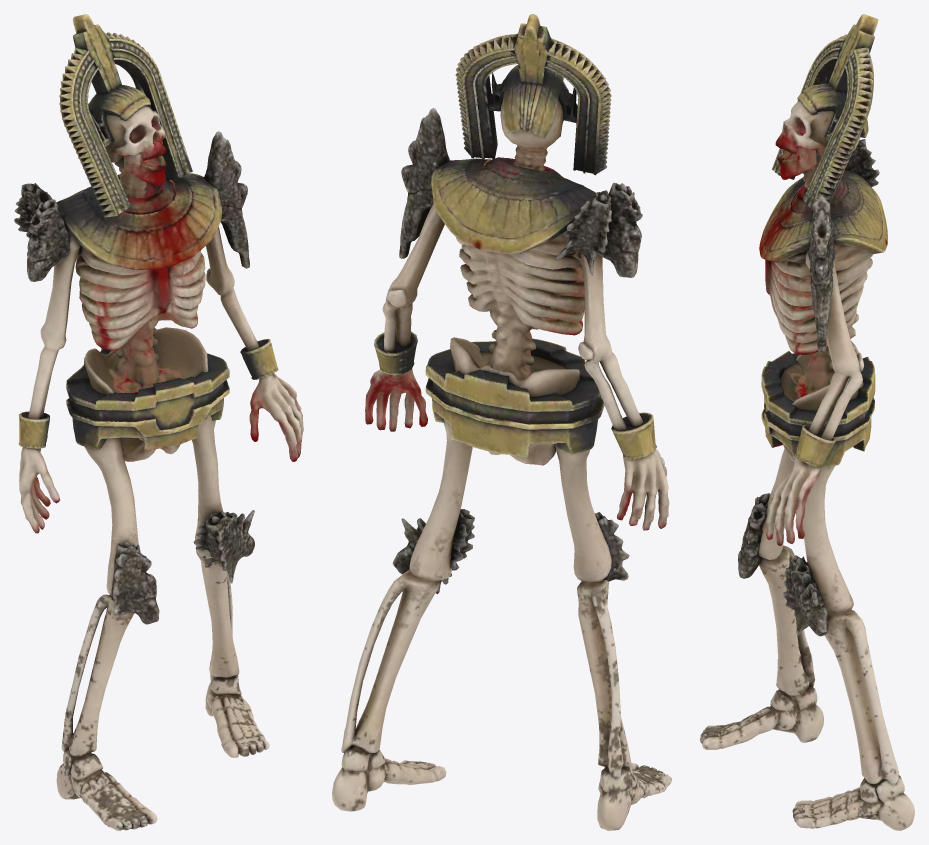
File: MZ4250 - Tzitzimitl.glb
3 views of the same model, side by side, from view 1: azimuth 30°, elevation 25°; view 2: azimuth 150°, elevation 25°; view 3: azimuth 270°, elevation 25° (orthographic). The views are drawn at different scales.
Parts seen in each view (by area): view 1: Body.002; view 2: Body.002; view 3: Body.002.
Part boxes in pixels (x1,y1,x2,y2): Body.002: [14, 14, 303, 830]; Body.002: [332, 14, 671, 830]; Body.002: [700, 14, 914, 830].
Size of the model in its own units: 247 by 637 by 167.
1 material, 1 textured.
